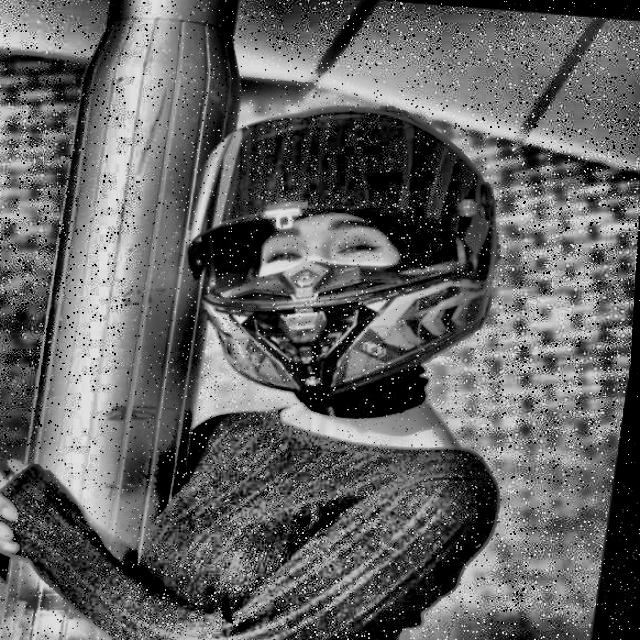Helmet: (164, 82, 532, 430)
